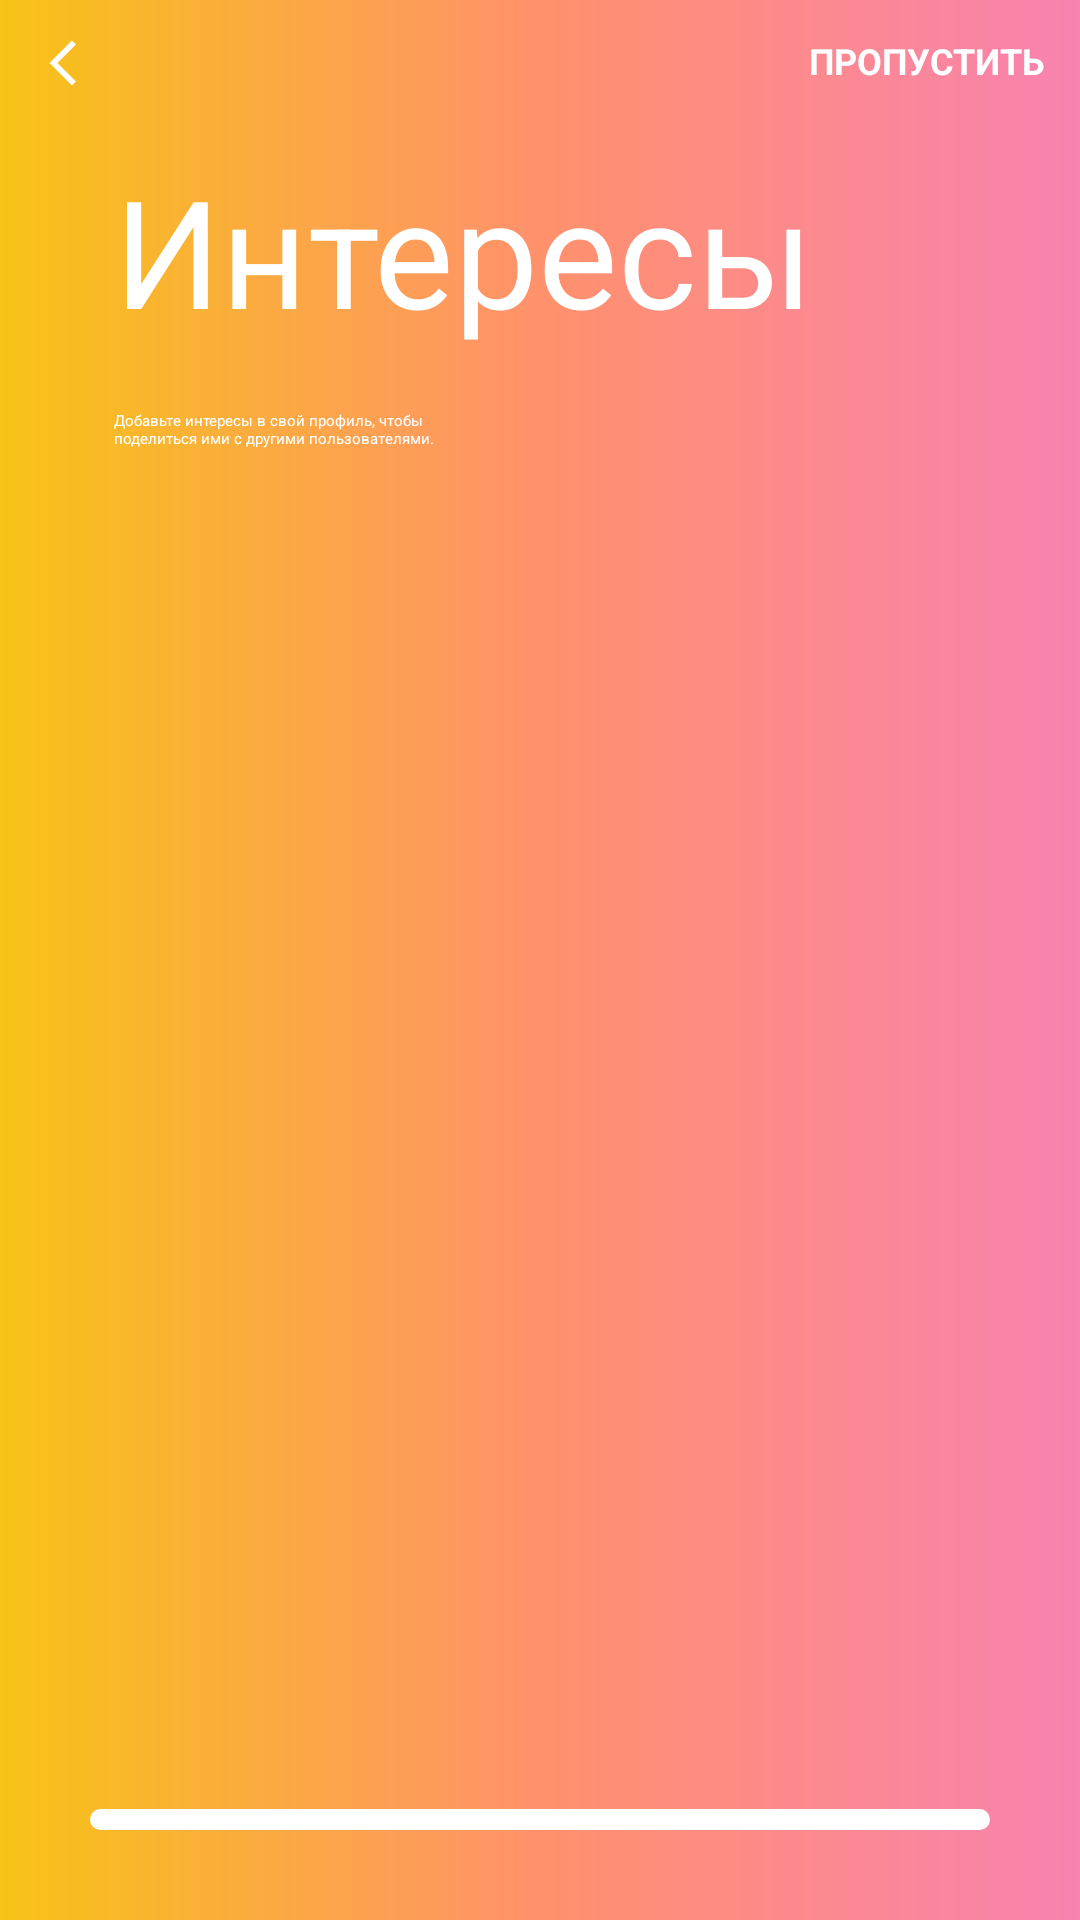

Named icons in this screenshot (1080px×1920px) and their bounding boxes, (x1, y1, x2, y2):
back: (50, 40, 76, 86)
